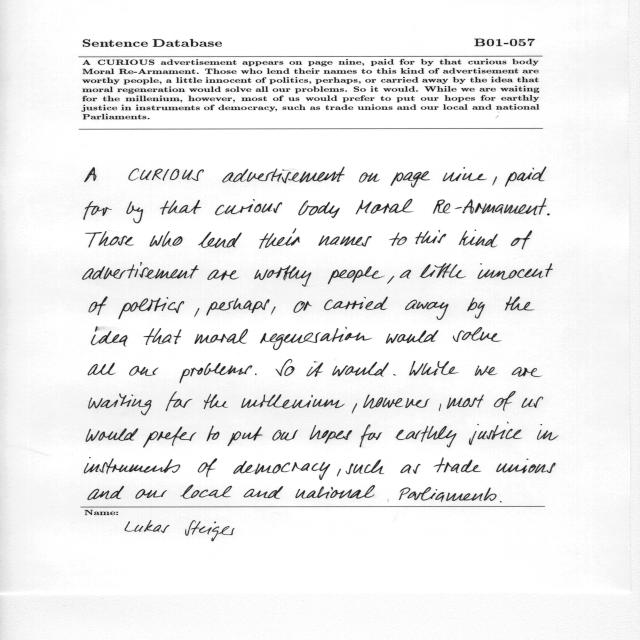word: (260, 327, 372, 350), (82, 262, 199, 280), (222, 167, 345, 184), (433, 199, 546, 216), (233, 461, 330, 480), (84, 457, 180, 474), (241, 394, 345, 409), (399, 487, 497, 502), (180, 363, 253, 383), (119, 297, 185, 319), (89, 394, 152, 416), (395, 426, 457, 447), (478, 263, 553, 280), (254, 265, 311, 287), (469, 422, 522, 445), (206, 298, 270, 316), (215, 199, 282, 216), (295, 485, 375, 499), (143, 427, 196, 448), (328, 266, 385, 284), (128, 168, 204, 181), (363, 395, 430, 409), (496, 459, 556, 474), (405, 300, 449, 320), (356, 199, 414, 214), (259, 228, 300, 249), (332, 362, 389, 377), (505, 167, 547, 187), (324, 297, 388, 310), (195, 329, 248, 344), (86, 231, 135, 247), (434, 457, 482, 473), (298, 200, 340, 218), (310, 426, 352, 444), (409, 361, 459, 376), (386, 330, 439, 344), (453, 327, 502, 342), (86, 428, 138, 442), (180, 485, 232, 499), (198, 232, 242, 248), (91, 327, 128, 346), (459, 230, 498, 248), (420, 263, 466, 278), (391, 171, 431, 188), (228, 427, 263, 446), (144, 328, 182, 345), (443, 167, 487, 181), (160, 200, 201, 215), (318, 236, 372, 247), (346, 460, 384, 475), (447, 394, 484, 409), (166, 392, 193, 412), (84, 201, 112, 220), (150, 231, 183, 247), (244, 486, 283, 499), (360, 425, 382, 448), (88, 486, 124, 500), (494, 391, 516, 411), (416, 230, 446, 244), (505, 297, 535, 311), (511, 231, 532, 250), (467, 298, 485, 319), (127, 202, 144, 224), (88, 363, 116, 376), (89, 297, 108, 316), (198, 459, 217, 478), (204, 394, 228, 409), (207, 270, 239, 281), (537, 424, 558, 440), (276, 359, 295, 376), (135, 489, 167, 499), (129, 366, 159, 376), (512, 367, 542, 377), (273, 430, 299, 441), (306, 361, 323, 377), (389, 232, 407, 246), (475, 365, 497, 376), (522, 397, 543, 408), (293, 301, 312, 313), (359, 173, 380, 183), (401, 464, 421, 474), (207, 426, 220, 441), (85, 167, 97, 182), (400, 270, 411, 278), (387, 276, 394, 284), (194, 308, 200, 317), (352, 404, 357, 414), (492, 177, 497, 186), (271, 307, 276, 315), (337, 469, 341, 477), (439, 404, 441, 411), (547, 214, 550, 216), (393, 374, 396, 376), (255, 373, 257, 375), (500, 501, 502, 503)
